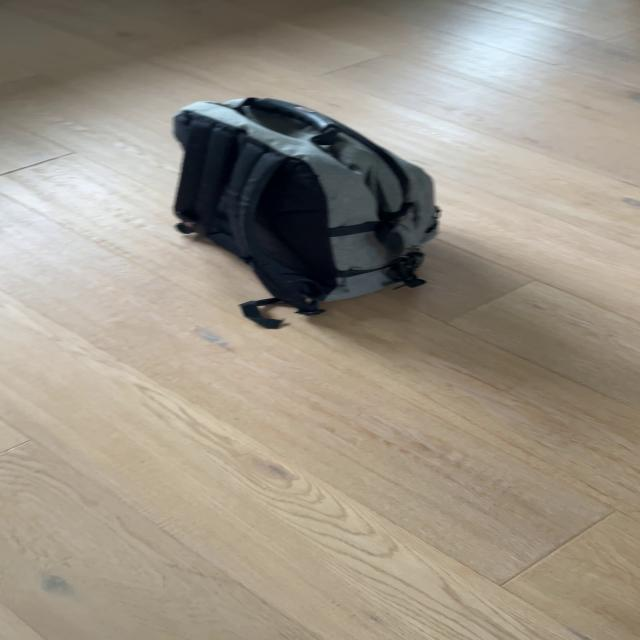backpack: (158, 86, 457, 322)
